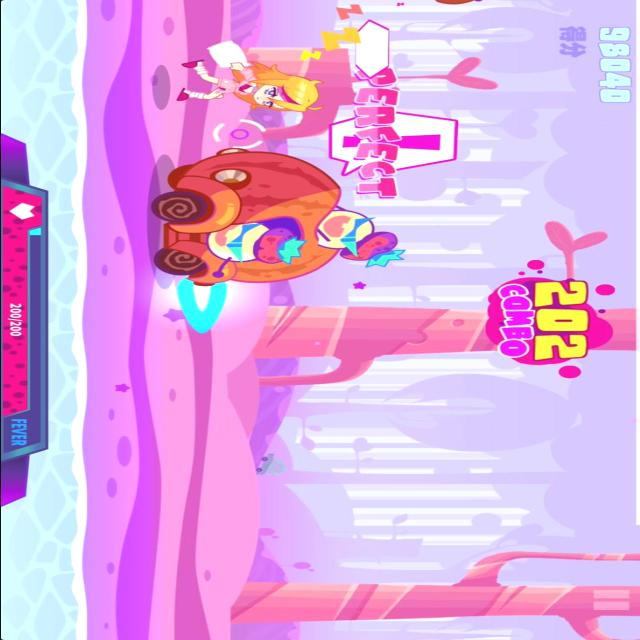cheboss: (146, 145, 410, 295)
